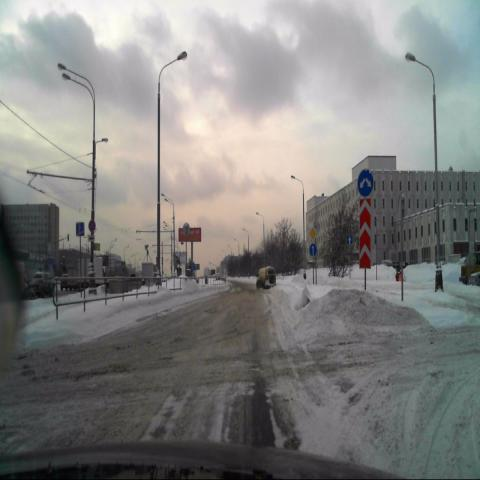4_2_3: (357, 169, 373, 197)
